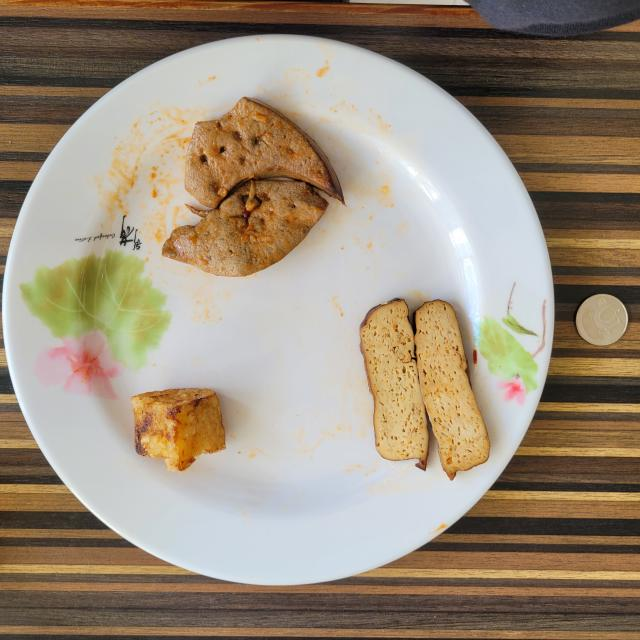coin: (576, 294, 628, 346)
firm tofu: (360, 299, 490, 480)
fried potato: (131, 389, 225, 471)
pig liver: (162, 98, 345, 276)
